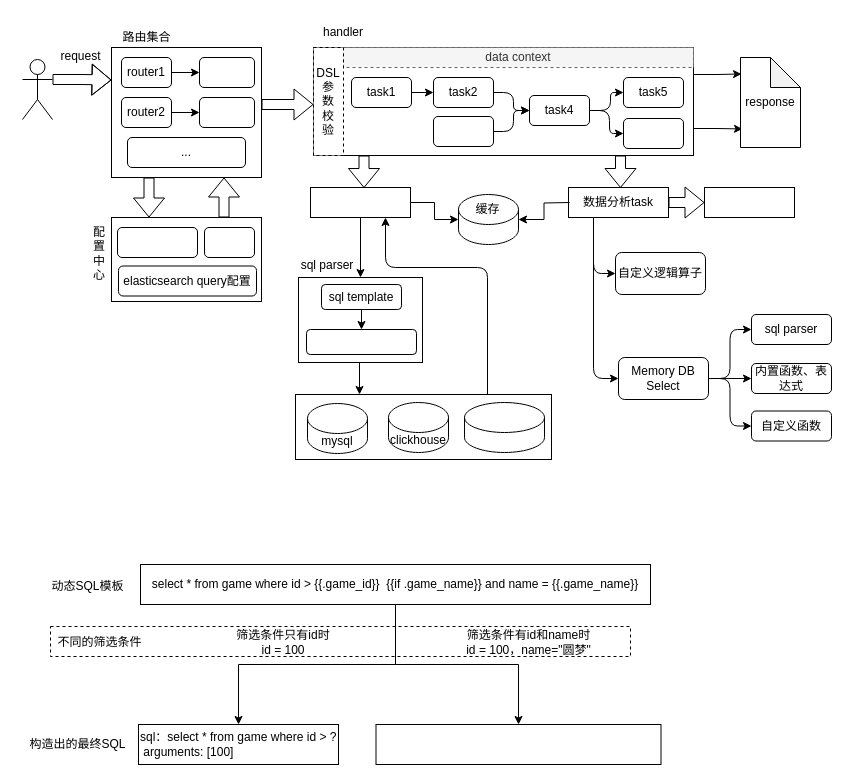
Some shapes in this 849 by 782 pixel diagram are drawn without their labels. Here are the shapes that lost their labels. From the top down, the centre of each, then its label:
pixel 37 89: 用户
pixel 226 72: handler1
pixel 226 112: handler2
pixel 463 131: task3
pixel 653 133: task6
pixel 360 202: 数据加载task
pixel 749 202: 内存
pixel 157 242: handler配置
pixel 229 242: sql配置
pixel 361 341: prepare statement
pixel 504 427: elasticsearch
pixel 518 744: sql：select * from game where id > ? and name = ? arguments: [100, "圆梦"]
